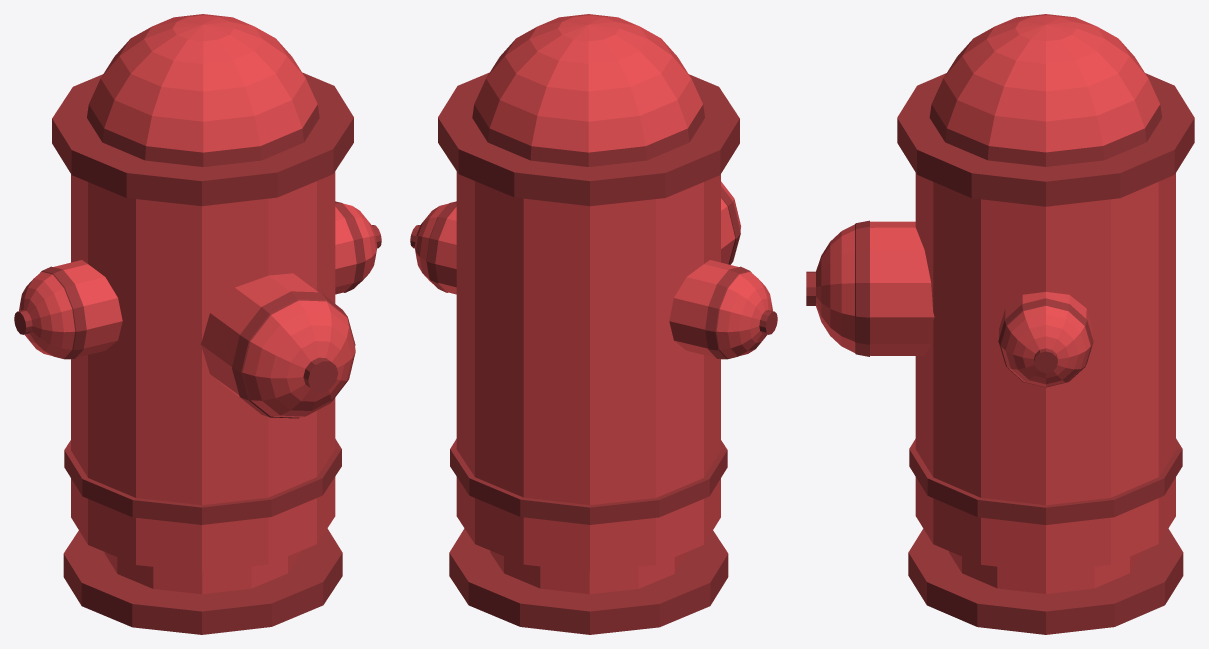
File: Hydrant.fbx
3 renders of one model, left to right at view 1: azimuth 30°, elevation 25°; view 2: azimuth 150°, elevation 25°; view 3: azimuth 270°, elevation 25°, orthographic.
Visible parts, largest first — view 1: Hydrant; view 2: Hydrant; view 3: Hydrant.
Part boxes in pixels (box(x1,y1,x2,y2)): Hydrant: box(14, 14, 381, 634); Hydrant: box(410, 14, 777, 634); Hydrant: box(806, 14, 1194, 634).
Bounding box in the file's own units: 31.14 × 46.18 × 29.48.
